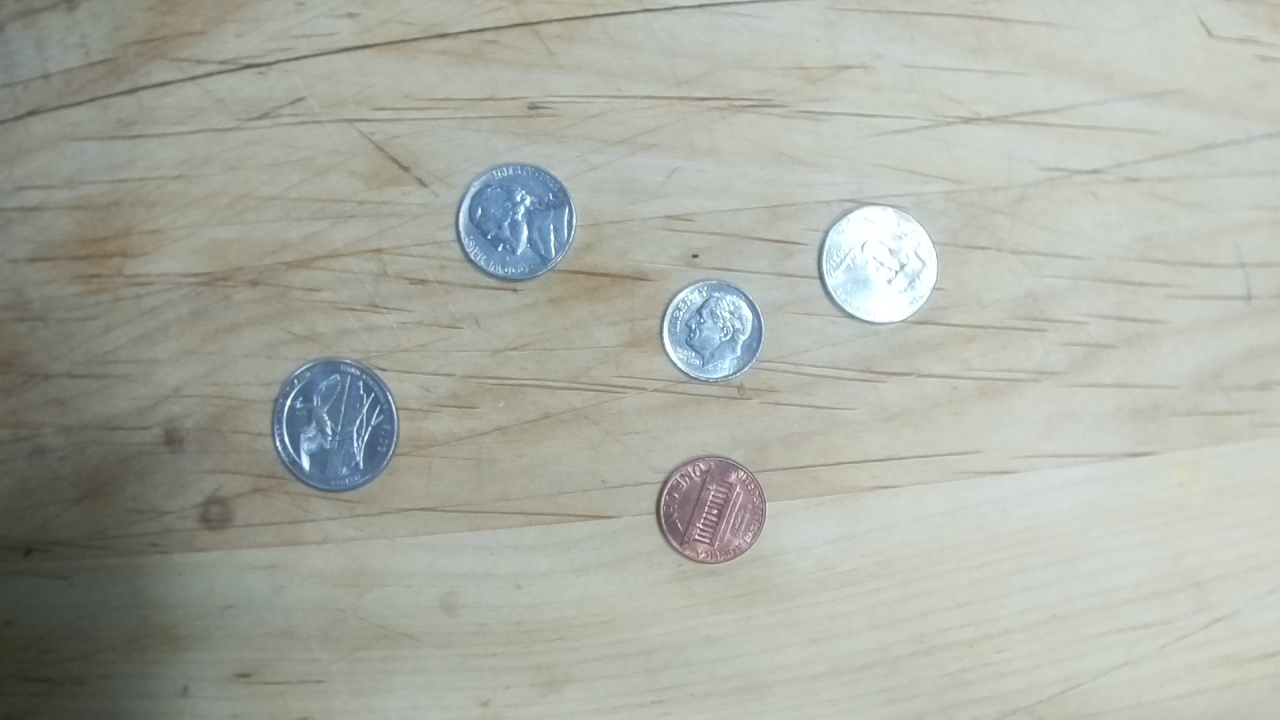dime: (660, 278, 764, 382)
nickel: (817, 203, 939, 326), (456, 161, 575, 282)
penny: (655, 453, 768, 565)
quarter: (271, 355, 399, 494)
